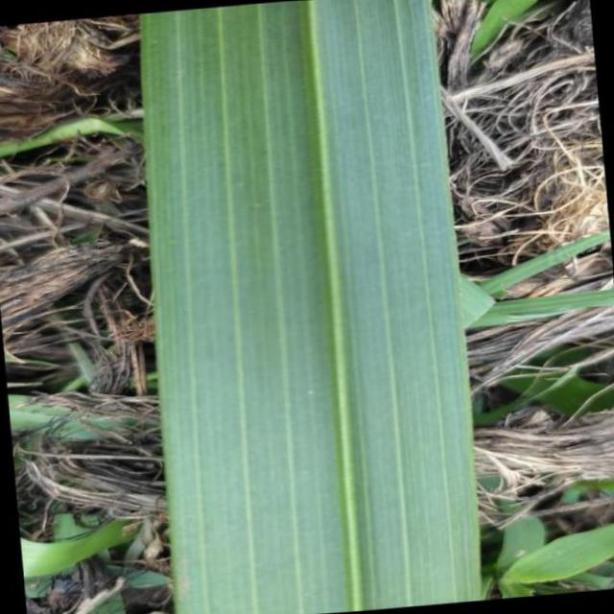Healthy: (139, 6, 486, 614)
